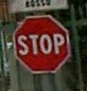stop: (12, 15, 70, 72)
